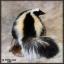skunk: (11, 8, 59, 58)
